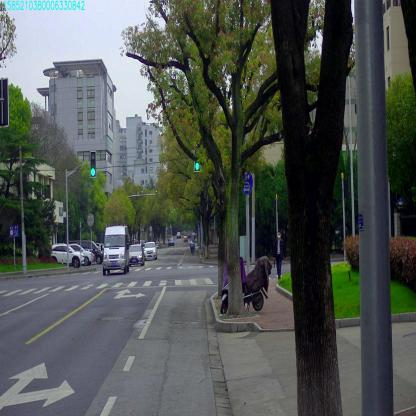traffic-light: (90, 151, 96, 177), (194, 145, 200, 171)
